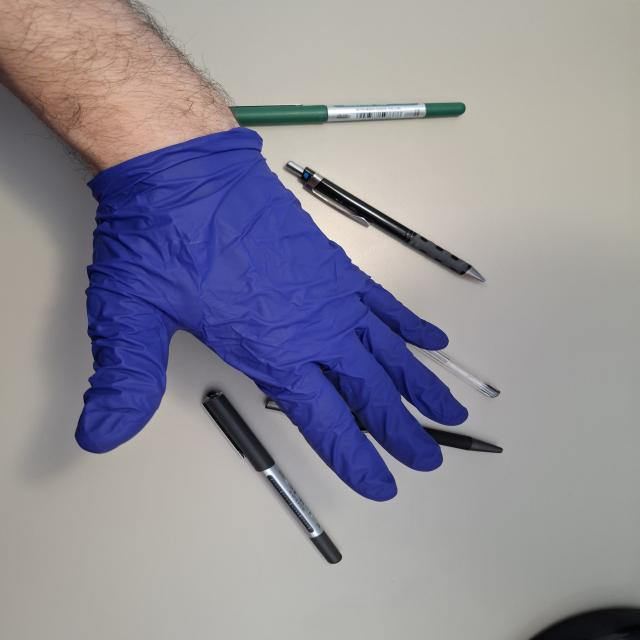glove_on: (70, 120, 473, 502)
